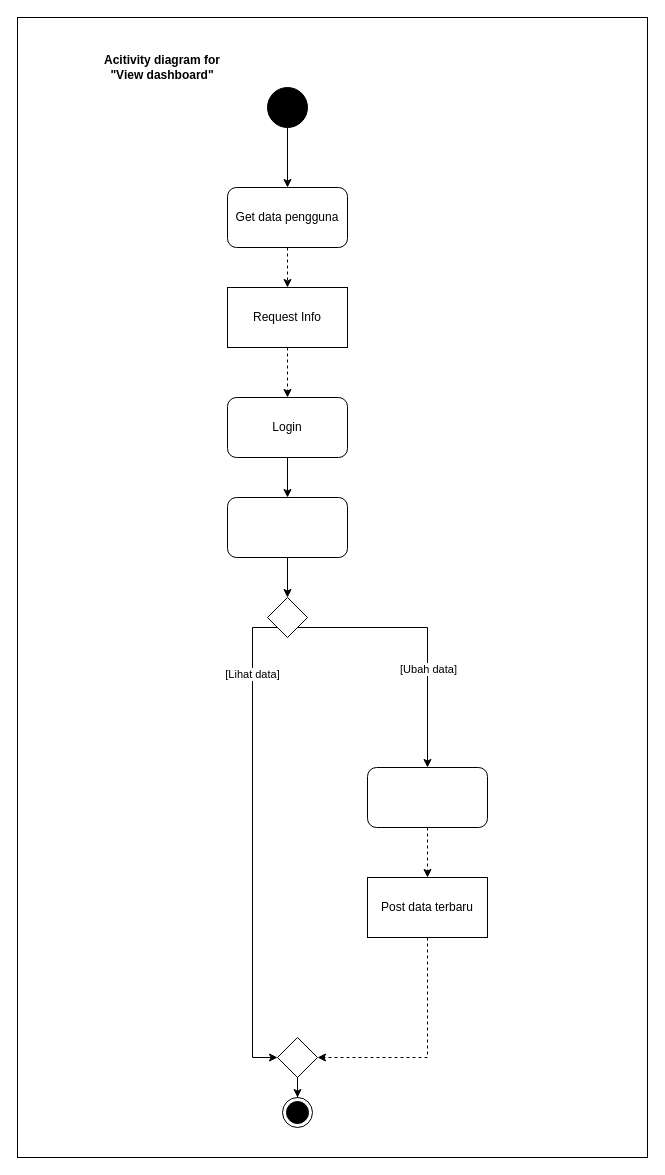
This 665x1175 diagram has some shape labels left out. The shapes that lost their labels are listed below. From the top down, each one's centre as x and y in pixels, then its label:
point (287, 527): Lihat halaman utama
point (427, 797): Ubah data
